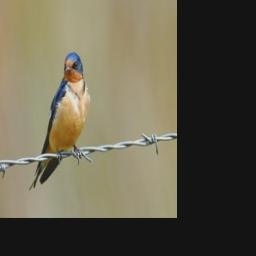Swallow: (28, 50, 91, 190)
